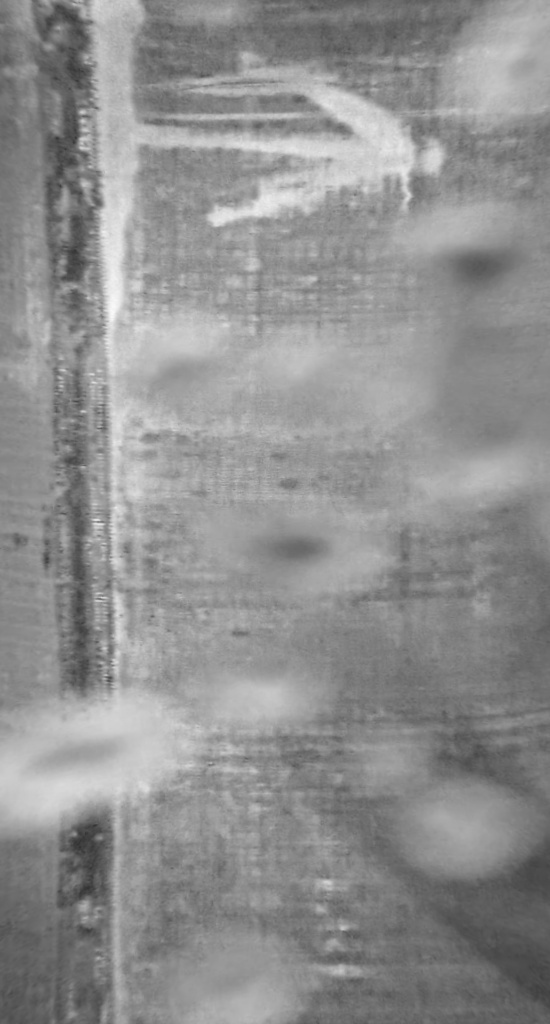splice: (30, 1, 127, 1023)
